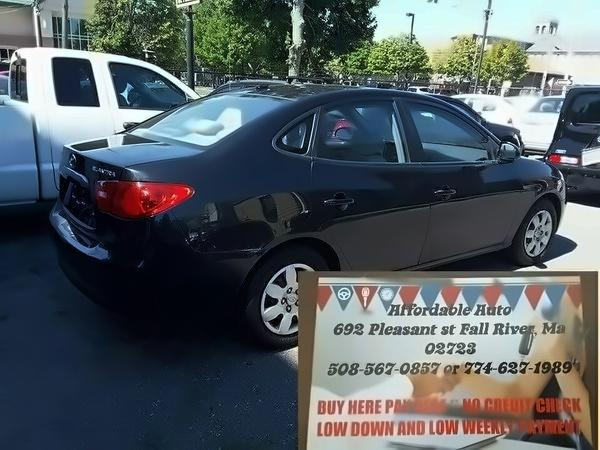Car boot: (54, 134, 195, 244)
Driver-s door - -F-R-: (427, 100, 519, 264)
Fender - -F-R-: (506, 154, 557, 250)
Fender - -R-R-: (170, 148, 339, 275)
Front bumper: (554, 169, 576, 238)
Headlight - -R-: (92, 176, 201, 226)
Passenger-s door - -R-R-: (311, 96, 428, 274)
Rear bumper: (36, 208, 268, 333)
Side bumper - -R-: (385, 237, 519, 272)
Side mirror - -R-: (493, 130, 525, 162)
